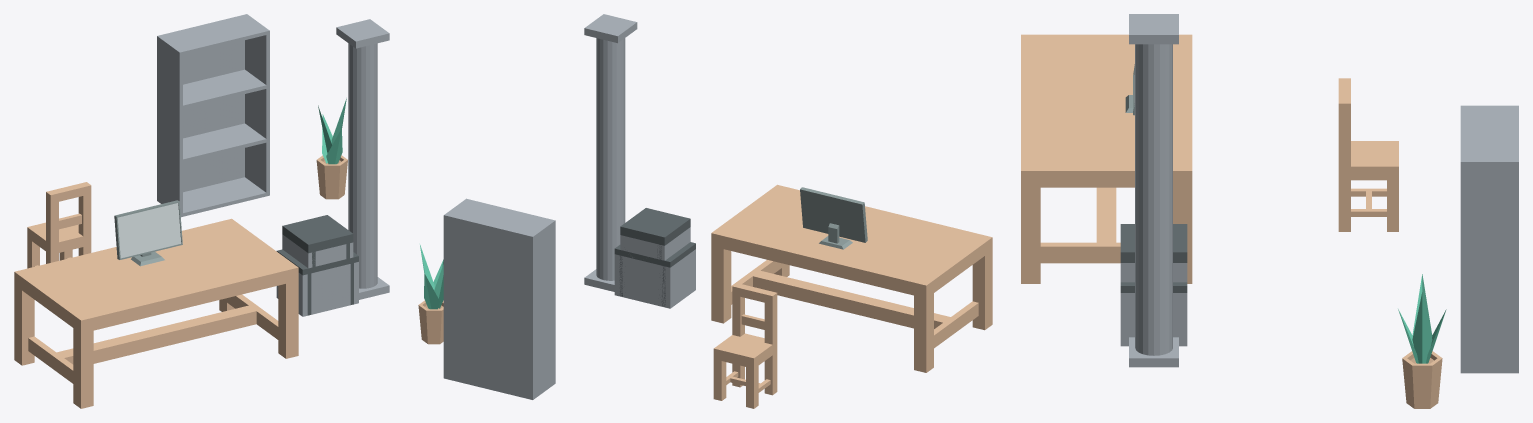
3 views of the same model, side by side, from view 1: azimuth 30°, elevation 25°; view 2: azimuth 150°, elevation 25°; view 3: azimuth 270°, elevation 25° (orthographic). The views are drawn at different scales.
Visible parts, largest first — view 1: table_green__table(Clone), column_cyan__column_cyan shaft, shelf_orange__shelf_orange back, shelf_orange__shelf_orange side_l, chair_cyan__chair(Clone), monitor_gray__computerScreen(Clone), shelf_orange__shelf_orange side_r, crate_red__crate_red shell, shelf_orange__shelf_orange board3, shelf_orange__shelf_orange board0, shelf_orange__shelf_orange board1, shelf_orange__shelf_orange board2 (+7 smaller); view 2: table_green__table(Clone), shelf_orange__shelf_orange back, column_cyan__column_cyan shaft, chair_cyan__chair(Clone), shelf_orange__shelf_orange side_l, crate_red__crate_red shell, monitor_gray__computerScreen(Clone), shelf_orange__shelf_orange board3, bin_gray__bin_gray lid, bin_gray__bin_gray shell, column_cyan__column_cyan capital, plant_pink__pottedPlant(Clone) (+3 smaller); view 3: table_green__table(Clone), shelf_orange__shelf_orange side_r, column_cyan__column_cyan shaft, chair_cyan__chair(Clone), shelf_orange__shelf_orange board3, plant_pink__pottedPlant(Clone), column_cyan__column_cyan capital, crate_red__crate_red shell, plant_pink__plant, bin_gray__bin_gray lid, column_cyan__column_cyan plinth, bin_gray__bin_gray shell.
Boxes of the visible parts, <box> form: table_green__table(Clone): <box>14,218,298,408</box>; column_cyan__column_cyan shaft: <box>348,43,377,288</box>; shelf_orange__shelf_orange back: <box>160,15,244,192</box>; shelf_orange__shelf_orange side_l: <box>157,35,182,217</box>; chair_cyan__chair(Clone): <box>27,182,91,268</box>; monitor_gray__computerScreen(Clone): <box>114,200,182,266</box>; shelf_orange__shelf_orange side_r: <box>244,14,269,196</box>; crate_red__crate_red shell: <box>276,262,358,316</box>; shelf_orange__shelf_orange board3: <box>162,16,266,55</box>; shelf_orange__shelf_orange board0: <box>183,177,266,216</box>; shelf_orange__shelf_orange board1: <box>183,123,266,162</box>; shelf_orange__shelf_orange board2: <box>183,69,266,108</box>; table_green__table(Clone): <box>711,184,992,372</box>; shelf_orange__shelf_orange back: <box>447,215,530,399</box>; column_cyan__column_cyan shaft: <box>596,38,625,280</box>; chair_cyan__chair(Clone): <box>713,283,777,408</box>; shelf_orange__shelf_orange side_l: <box>529,219,555,399</box>; crate_red__crate_red shell: <box>614,249,695,308</box>; monitor_gray__computerScreen(Clone): <box>800,187,867,249</box>; shelf_orange__shelf_orange board3: <box>449,199,551,234</box>; bin_gray__bin_gray lid: <box>620,208,690,245</box>; bin_gray__bin_gray shell: <box>620,227,690,296</box>; column_cyan__column_cyan capital: <box>584,14,637,43</box>; plant_pink__pottedPlant(Clone): <box>418,300,443,344</box>; table_green__table(Clone): <box>1021,34,1192,283</box>; shelf_orange__shelf_orange side_r: <box>1460,159,1518,373</box>; column_cyan__column_cyan shaft: <box>1135,44,1172,355</box>; chair_cyan__chair(Clone): <box>1338,78,1398,231</box>; shelf_orange__shelf_orange board3: <box>1460,107,1515,159</box>; plant_pink__pottedPlant(Clone): <box>1402,351,1442,408</box>; column_cyan__column_cyan capital: <box>1129,14,1178,44</box>; crate_red__crate_red shell: <box>1120,293,1187,346</box>; plant_pink__plant: <box>1398,274,1446,363</box>; bin_gray__bin_gray lid: <box>1120,224,1187,262</box>; column_cyan__column_cyan plinth: <box>1129,337,1178,367</box>; bin_gray__bin_gray shell: <box>1120,263,1187,282</box>.
Bounding box in the file's own units: 3.75 × 2.2 × 2.99.
